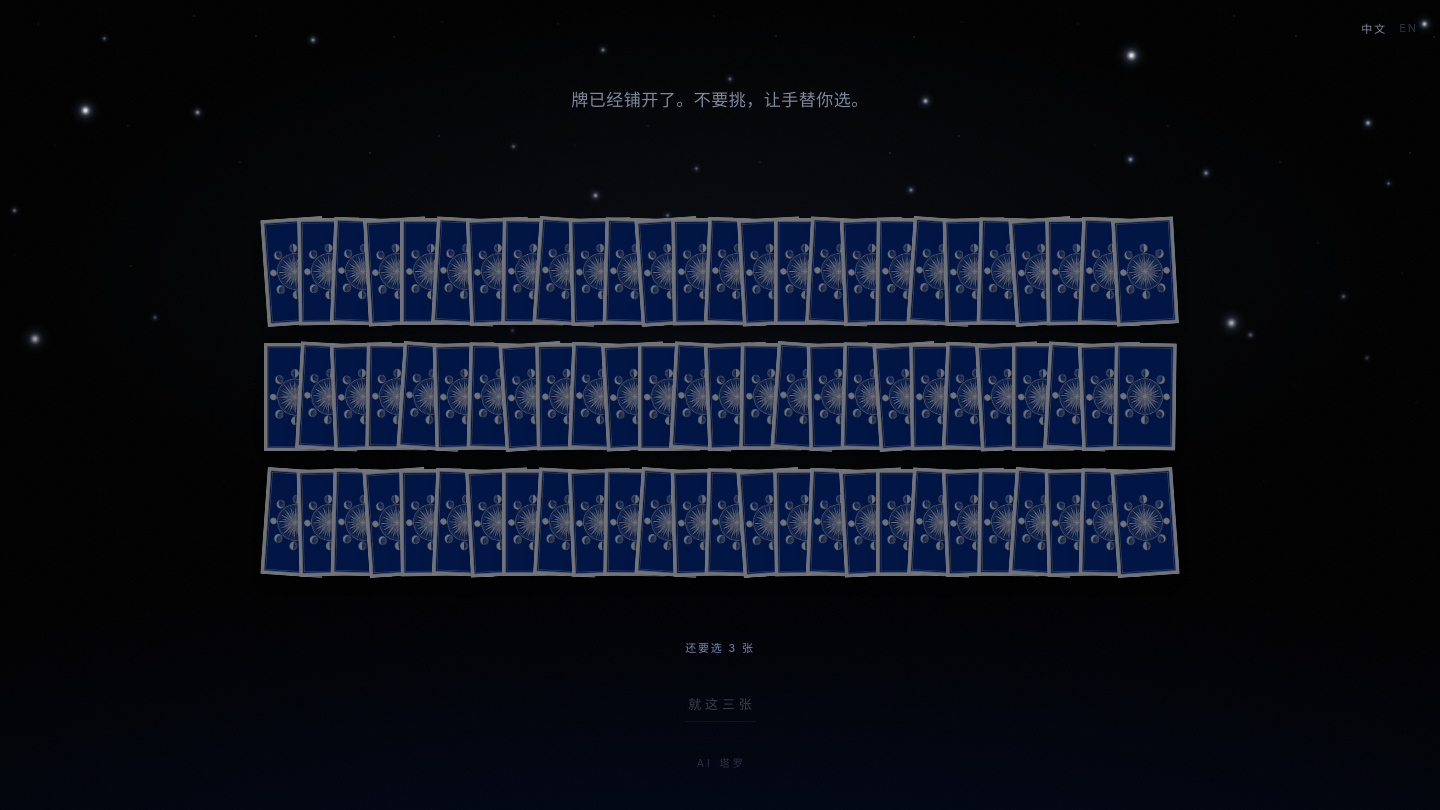
Test: over the spread › will not let the picking close early
Expected: the element named "铺开的牌" is shown, left=264, top=184, right=1176, bottom=604
Expected: the button "就这三张" is disabled, left=680, top=683, right=760, bottom=726
Click the 2nd button with class "taro-fan-card".
click(329, 272)  # box left=297, top=218, right=361, bottom=326
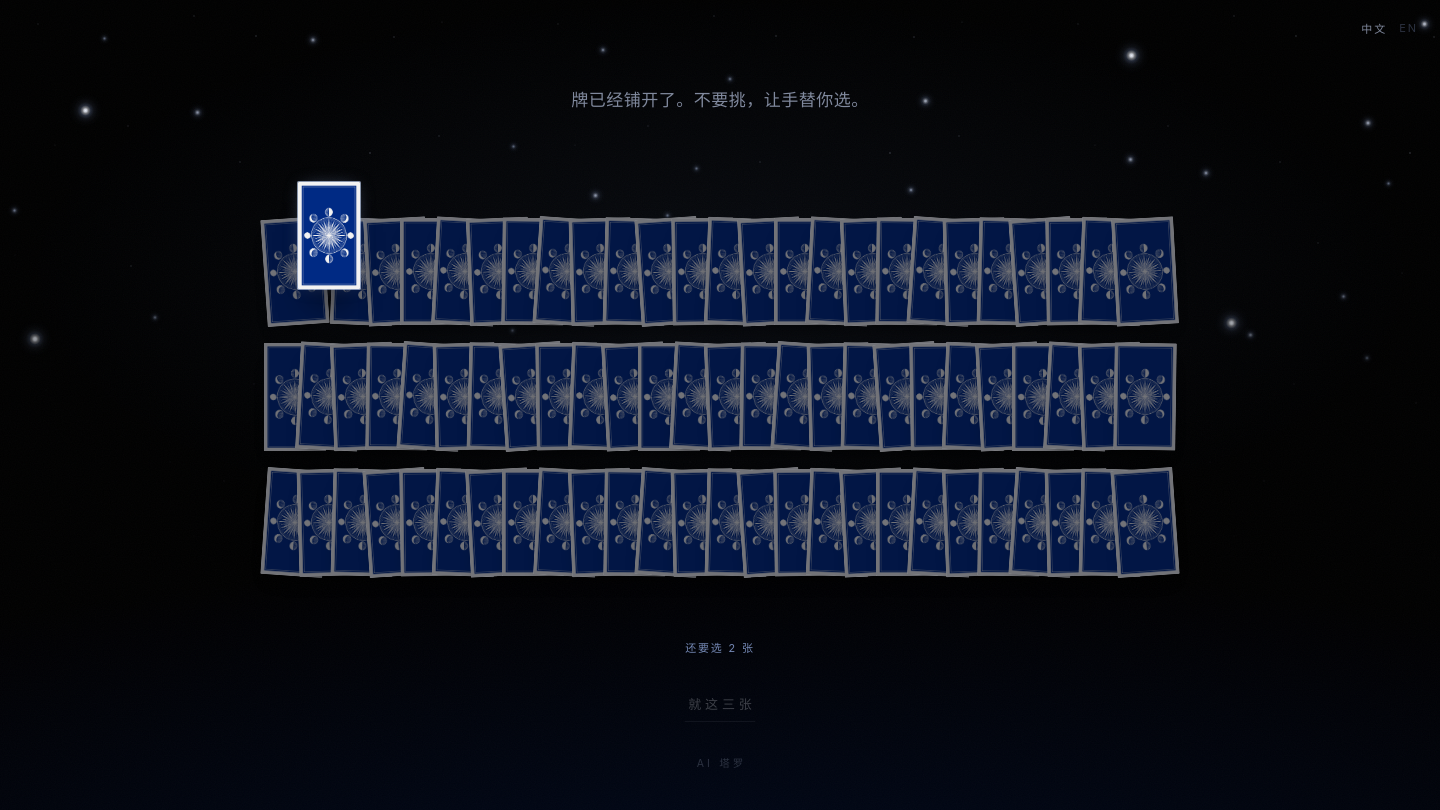
Click the 3rd button with class "taro-fan-card".
click(363, 272)  # box left=330, top=217, right=396, bottom=327
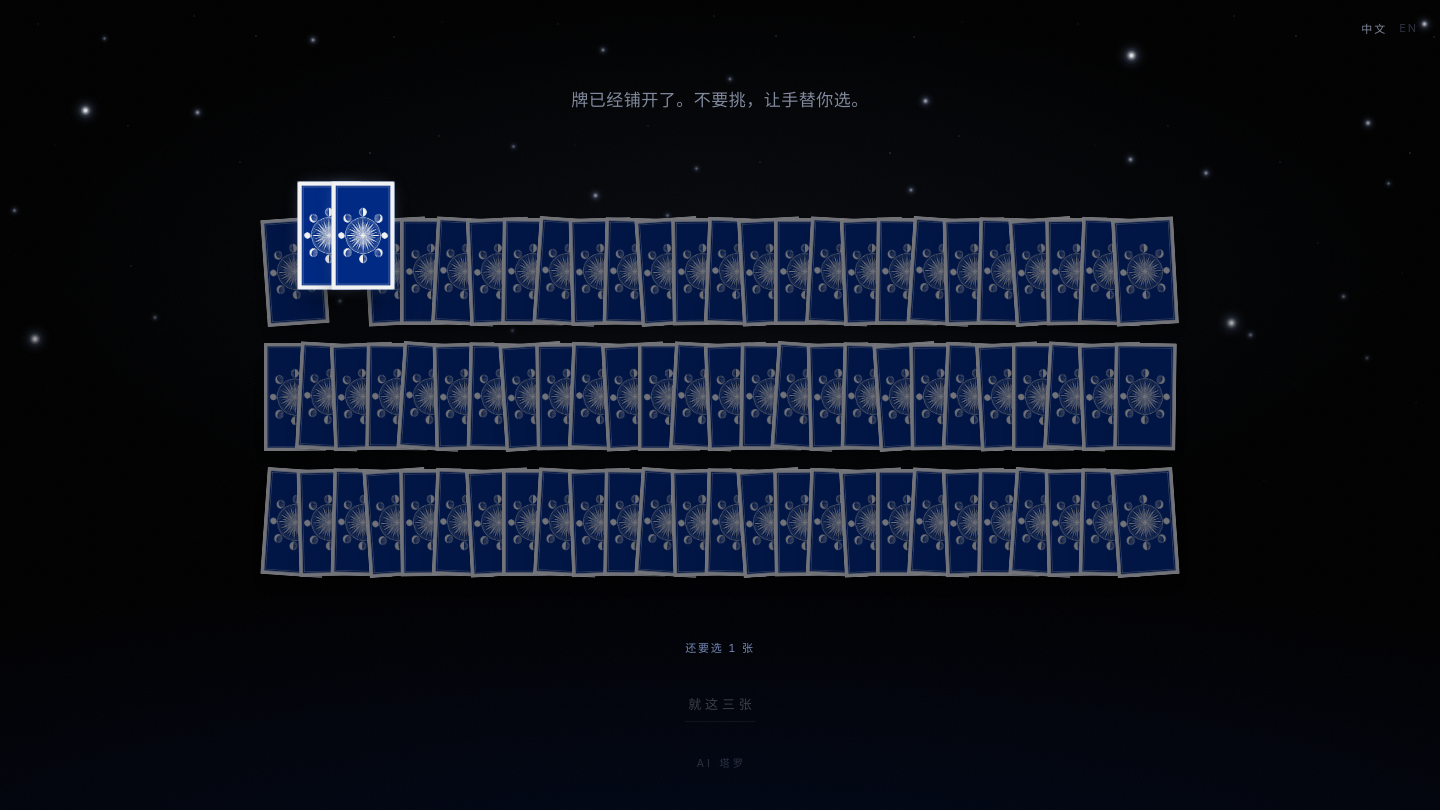
Expected: the button "就这三张" is disabled, left=680, top=683, right=760, bottom=726
Click the 4th button with class "taro-fan-card".
click(397, 272)  # box left=363, top=216, right=431, bottom=327
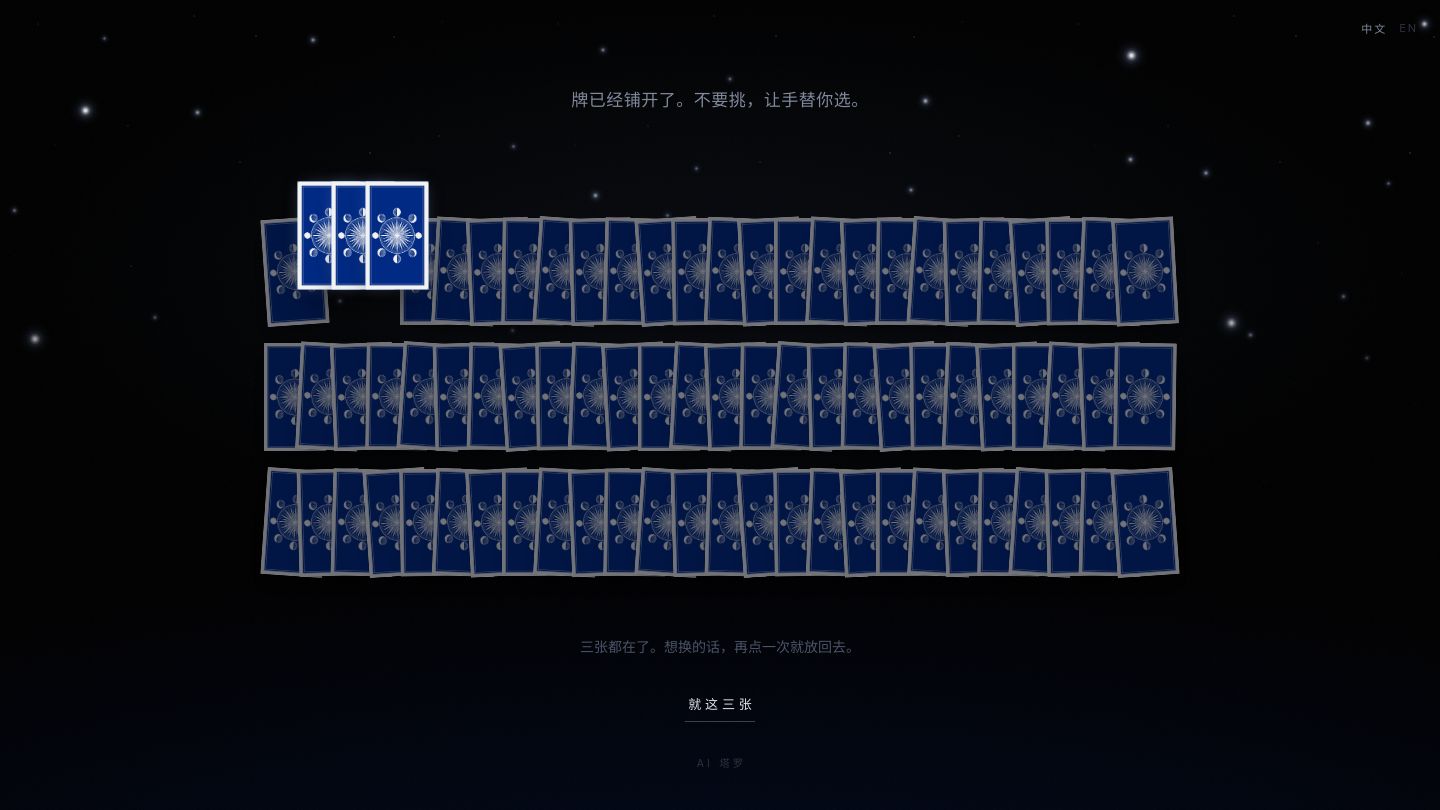
Expected: the button "就这三张" is enabled, left=680, top=683, right=760, bottom=726
